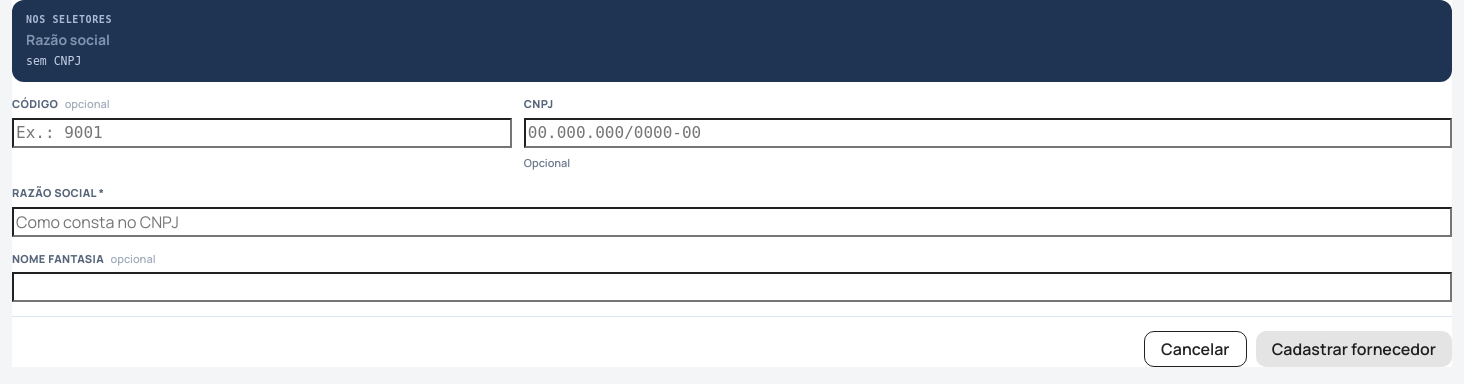
Test case: SupplierForm › mostra a prévia do rótulo dos seletores enquanto se digita
Expected: the element with test id "supplier-preview" shows "sem CNPJ", 26,54 -> 81,68
Type "9001" into the field with test id "supplier-code".
click(262, 133); type("9001")  # box 12,118 -> 512,148
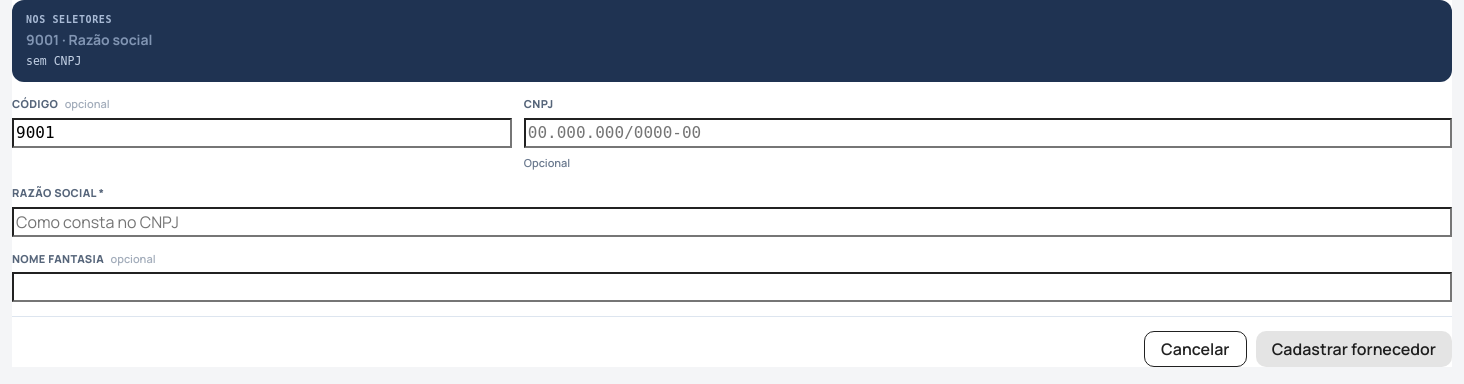
Type "Nova Indústria SA" into the field labelled "Razão social *".
click(732, 222); type("Nova Indústria SA")  # box 12,207 -> 1452,237
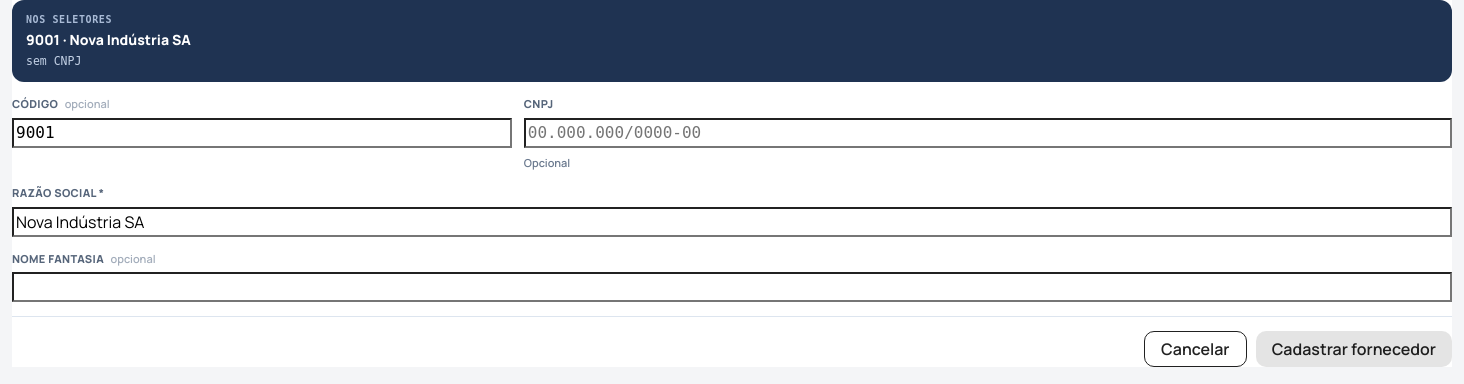
Expected: the text "9001 · Nova Indústria SA" is shown, 26,30 -> 191,49
